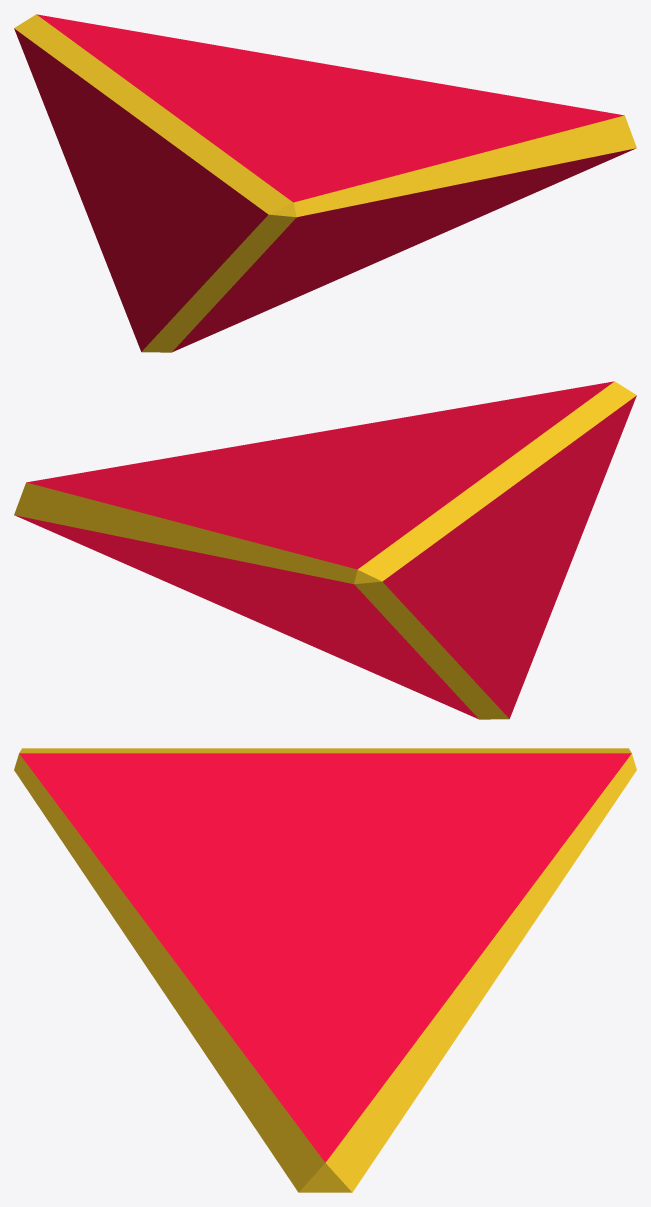
The model's file is basic_bullet.glb.
3 renders of one model, top to bottom at view 1: azimuth 30°, elevation 25°; view 2: azimuth 150°, elevation 25°; view 3: azimuth 270°, elevation 25°, orthographic. The views are drawn at different scales.
Parts seen in each view (by area): view 1: Cube; view 2: Cube; view 3: Cube.
Boxes of the visible parts, box(x1,y1,x2,y2) form: Cube: box(14, 14, 636, 352); Cube: box(14, 381, 636, 719); Cube: box(14, 748, 636, 1192).
Size of the model in its own units: 0.368 by 0.1747 by 0.344.
Materials: 1 (1 with a texture image).
